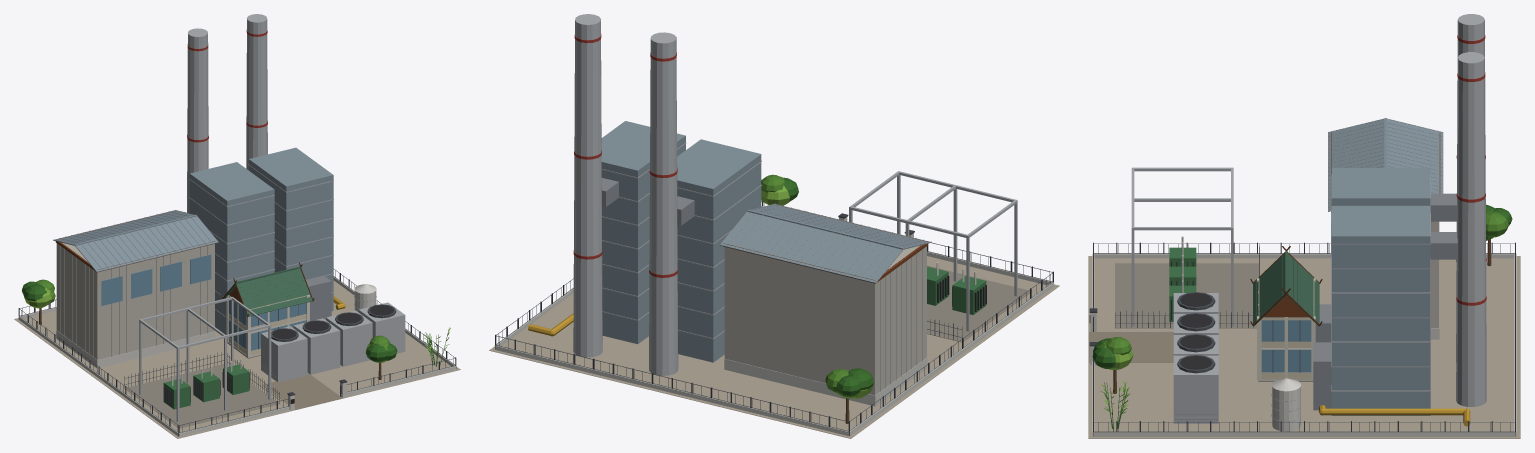
Rendered from power_plant.glb.
The picture shows the model from 3 angles, left to right: view 1: azimuth 30°, elevation 25°; view 2: azimuth 150°, elevation 25°; view 3: azimuth 270°, elevation 25°; orthographic projection. The views are drawn at different scales.
Parts seen in each view (by area): view 1: body; view 2: body; view 3: body.
Part boxes in pixels (box(x1,y1,x2,y2)): body: box(14, 14, 460, 438); body: box(489, 14, 1059, 438); body: box(1088, 14, 1520, 438).
Bounding box in the file's own units: 48.29 × 42.04 × 47.9.
